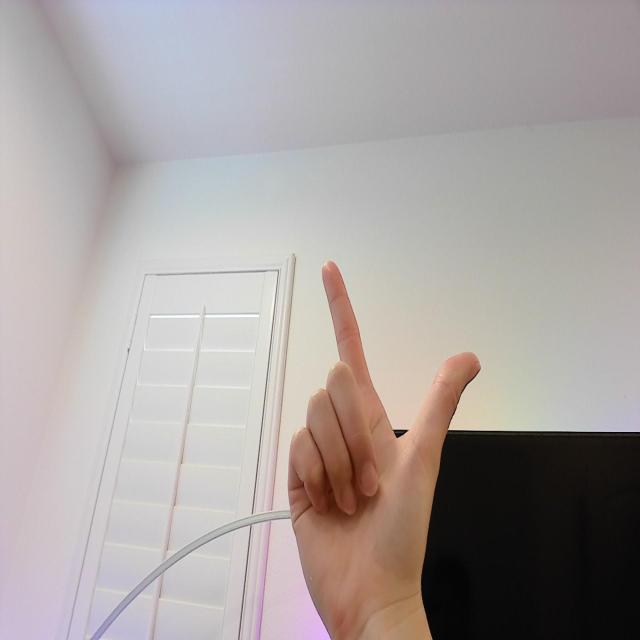L: (282, 251, 483, 609)
